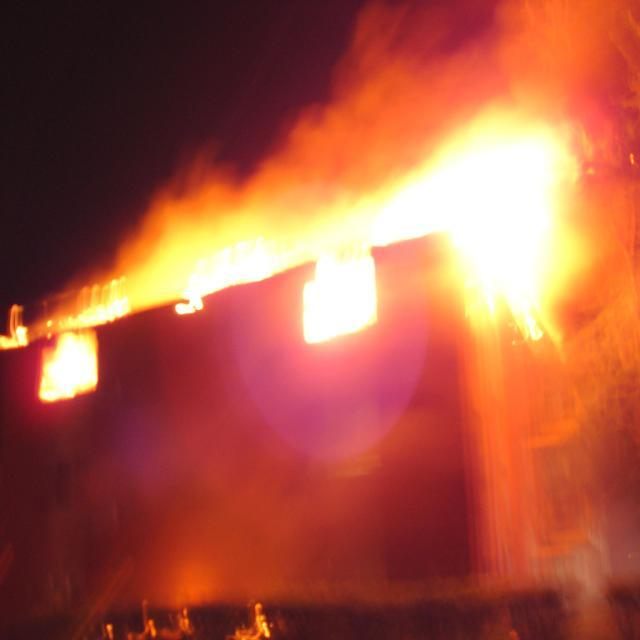Fire: (458, 152, 558, 276), (316, 254, 375, 324), (196, 246, 265, 284), (47, 340, 95, 393)
